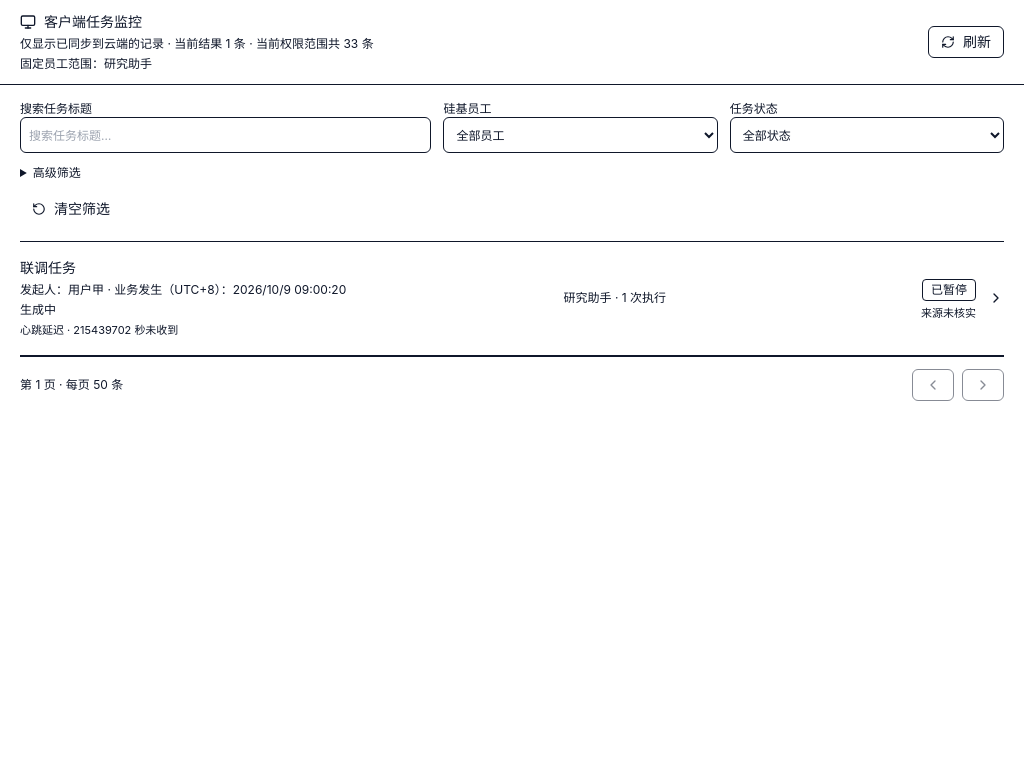
Scenario: client monitor › expanded rows use only the applied employee scope and never request full task text
Select "研究助手" in the dropdown named "员工筛选" at (581, 135), box x1=443 y1=117 x2=718 y2=153
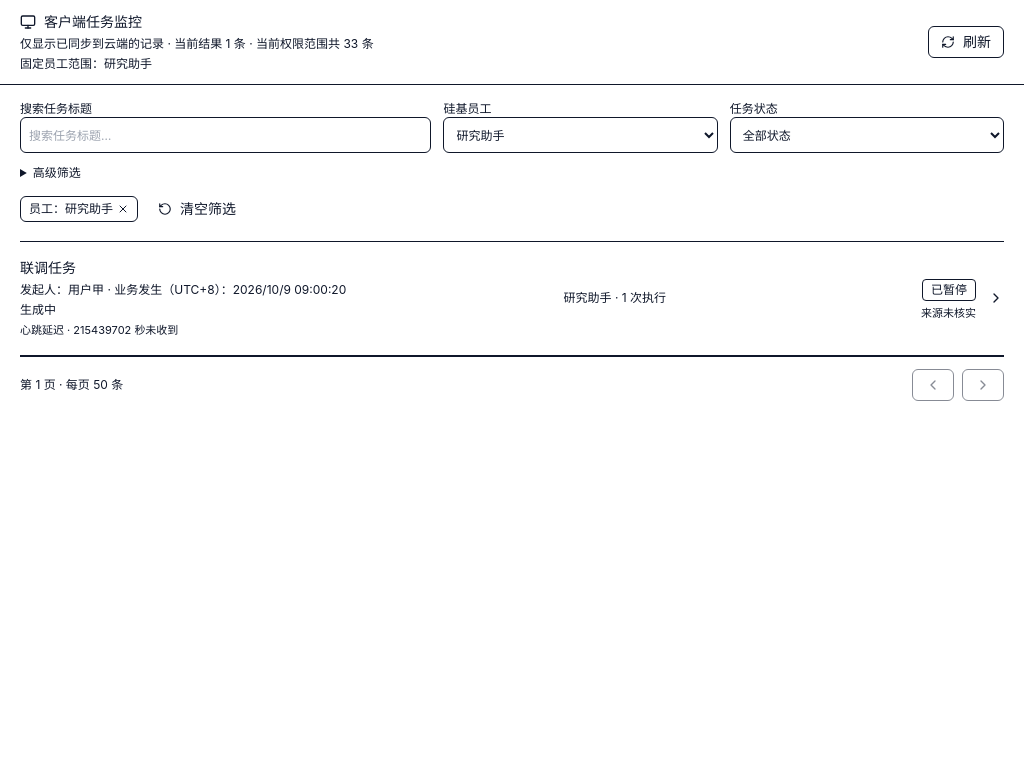
Click the button "联调任务".
click(48, 268)  # box x1=20 y1=242 x2=1004 y2=356
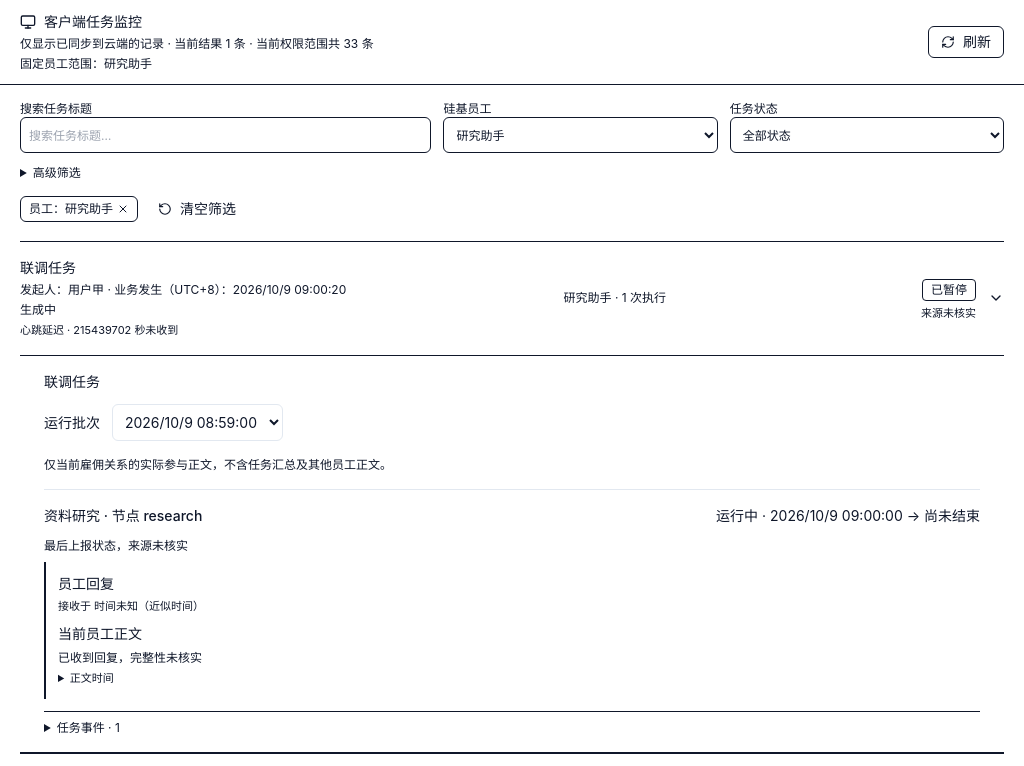
Result: the text "当前员工正文" is shown at x1=58 y1=625 x2=142 y2=642
